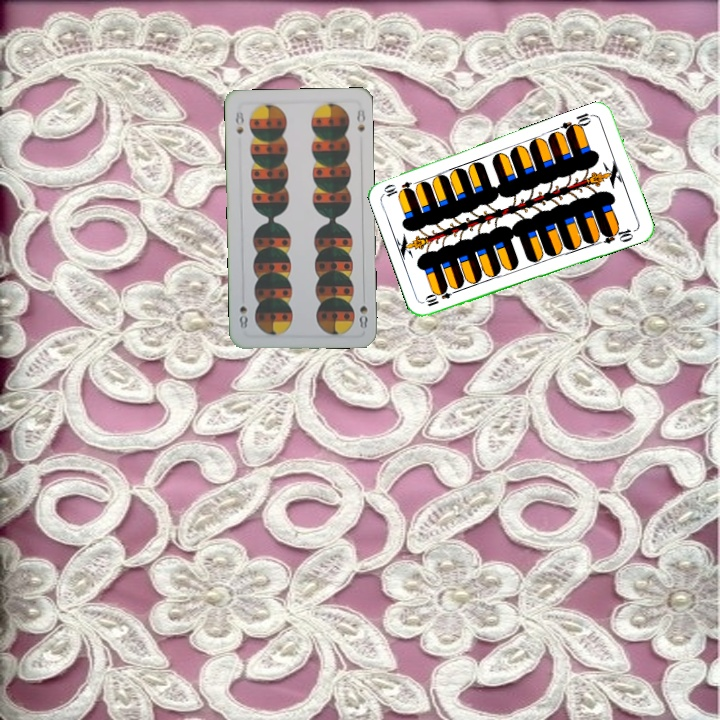E10: (558, 109, 598, 136), (421, 284, 460, 309)
S8: (355, 291, 370, 331), (231, 106, 247, 137)
